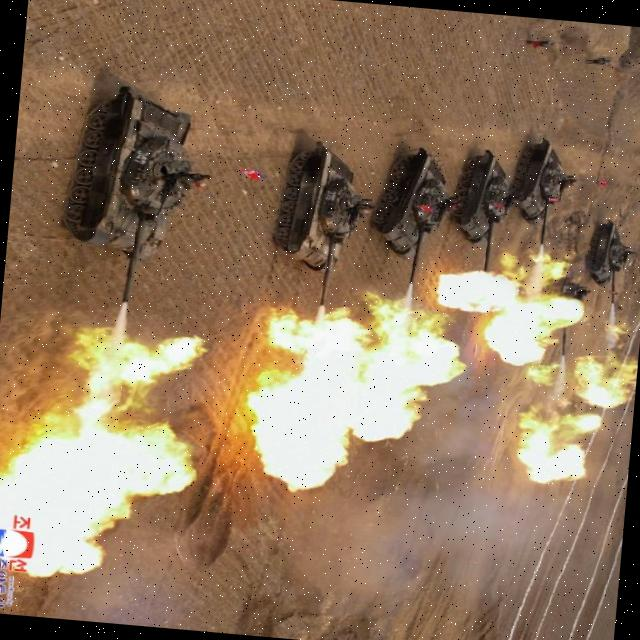north tank: (39, 82, 221, 352), (249, 141, 382, 349), (368, 138, 463, 294), (447, 150, 520, 286), (505, 137, 586, 249), (574, 217, 640, 309)
